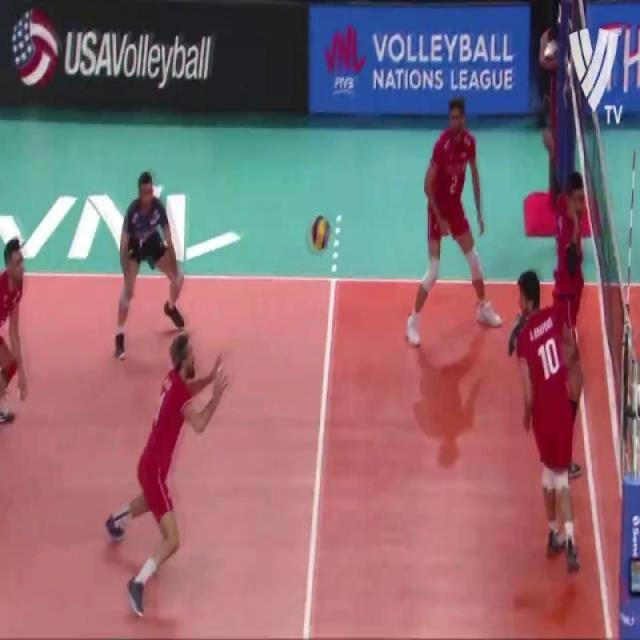volleyball: (308, 211, 332, 254)
